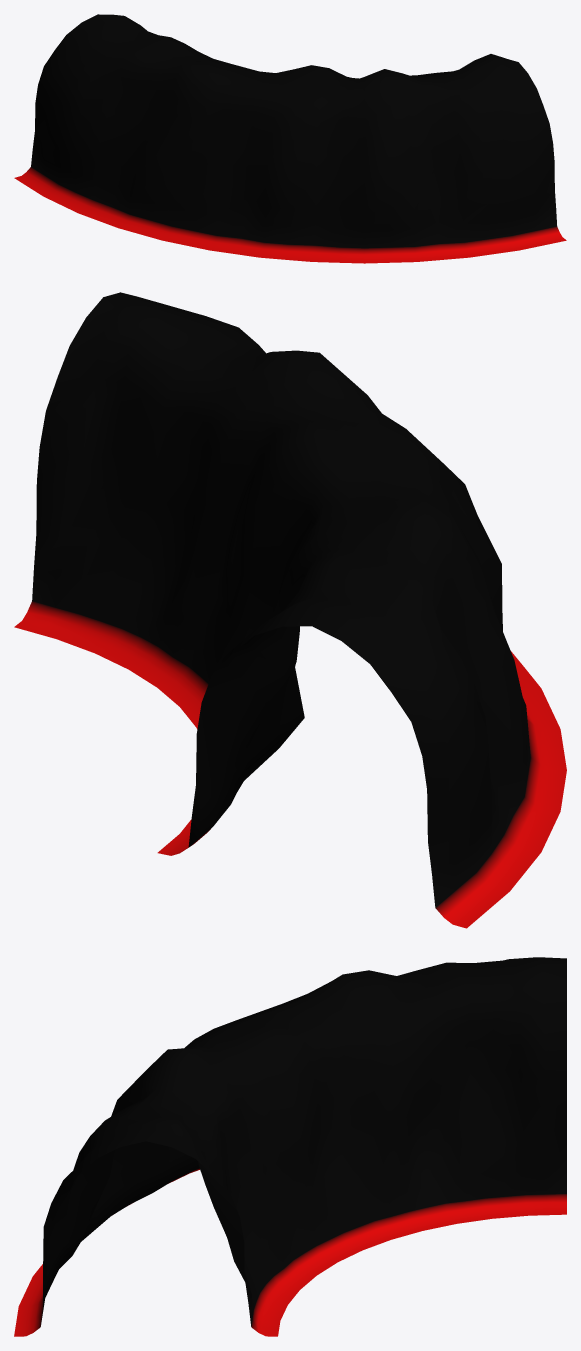
The model's file is GroundObject04A.fbx.
The picture shows the model from 3 angles, top to bottom: view 1: azimuth 30°, elevation 25°; view 2: azimuth 150°, elevation 25°; view 3: azimuth 270°, elevation 25°; orthographic projection. The views are drawn at different scales.
Visible parts, largest first — view 1: GroundObject04A; view 2: GroundObject04A; view 3: GroundObject04A.
Boxes of the visible parts, bbox=[...] form: GroundObject04A: bbox=[14, 14, 566, 263]; GroundObject04A: bbox=[14, 292, 566, 928]; GroundObject04A: bbox=[14, 957, 566, 1336].
Bounding box in the file's own units: 2.63 × 1.1 × 2.63.
